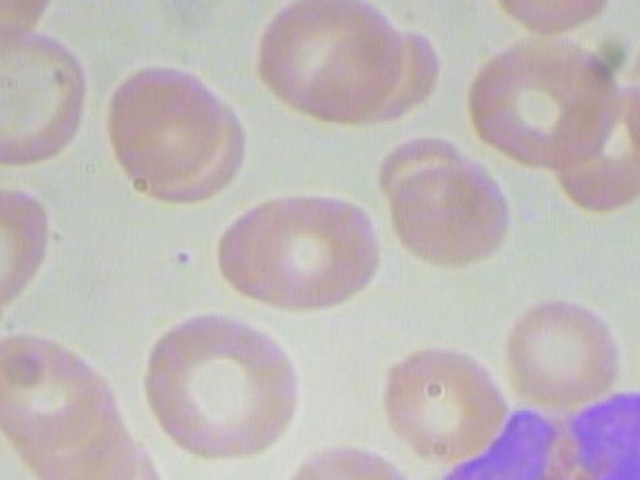RBC: (131, 309, 312, 475), (469, 30, 624, 172), (244, 0, 406, 123), (232, 195, 383, 311), (365, 341, 510, 460), (104, 62, 231, 185), (388, 161, 520, 267), (0, 26, 91, 172), (503, 292, 619, 406), (0, 326, 99, 448), (0, 179, 59, 331), (270, 441, 419, 480)
WBC: (401, 381, 640, 480)
